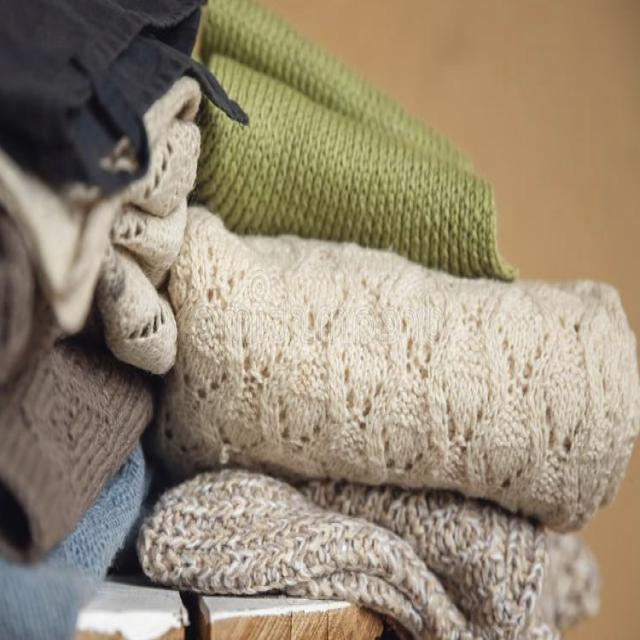clothes: (0, 0, 191, 625), (158, 282, 612, 496), (205, 0, 495, 296), (134, 527, 595, 640)
